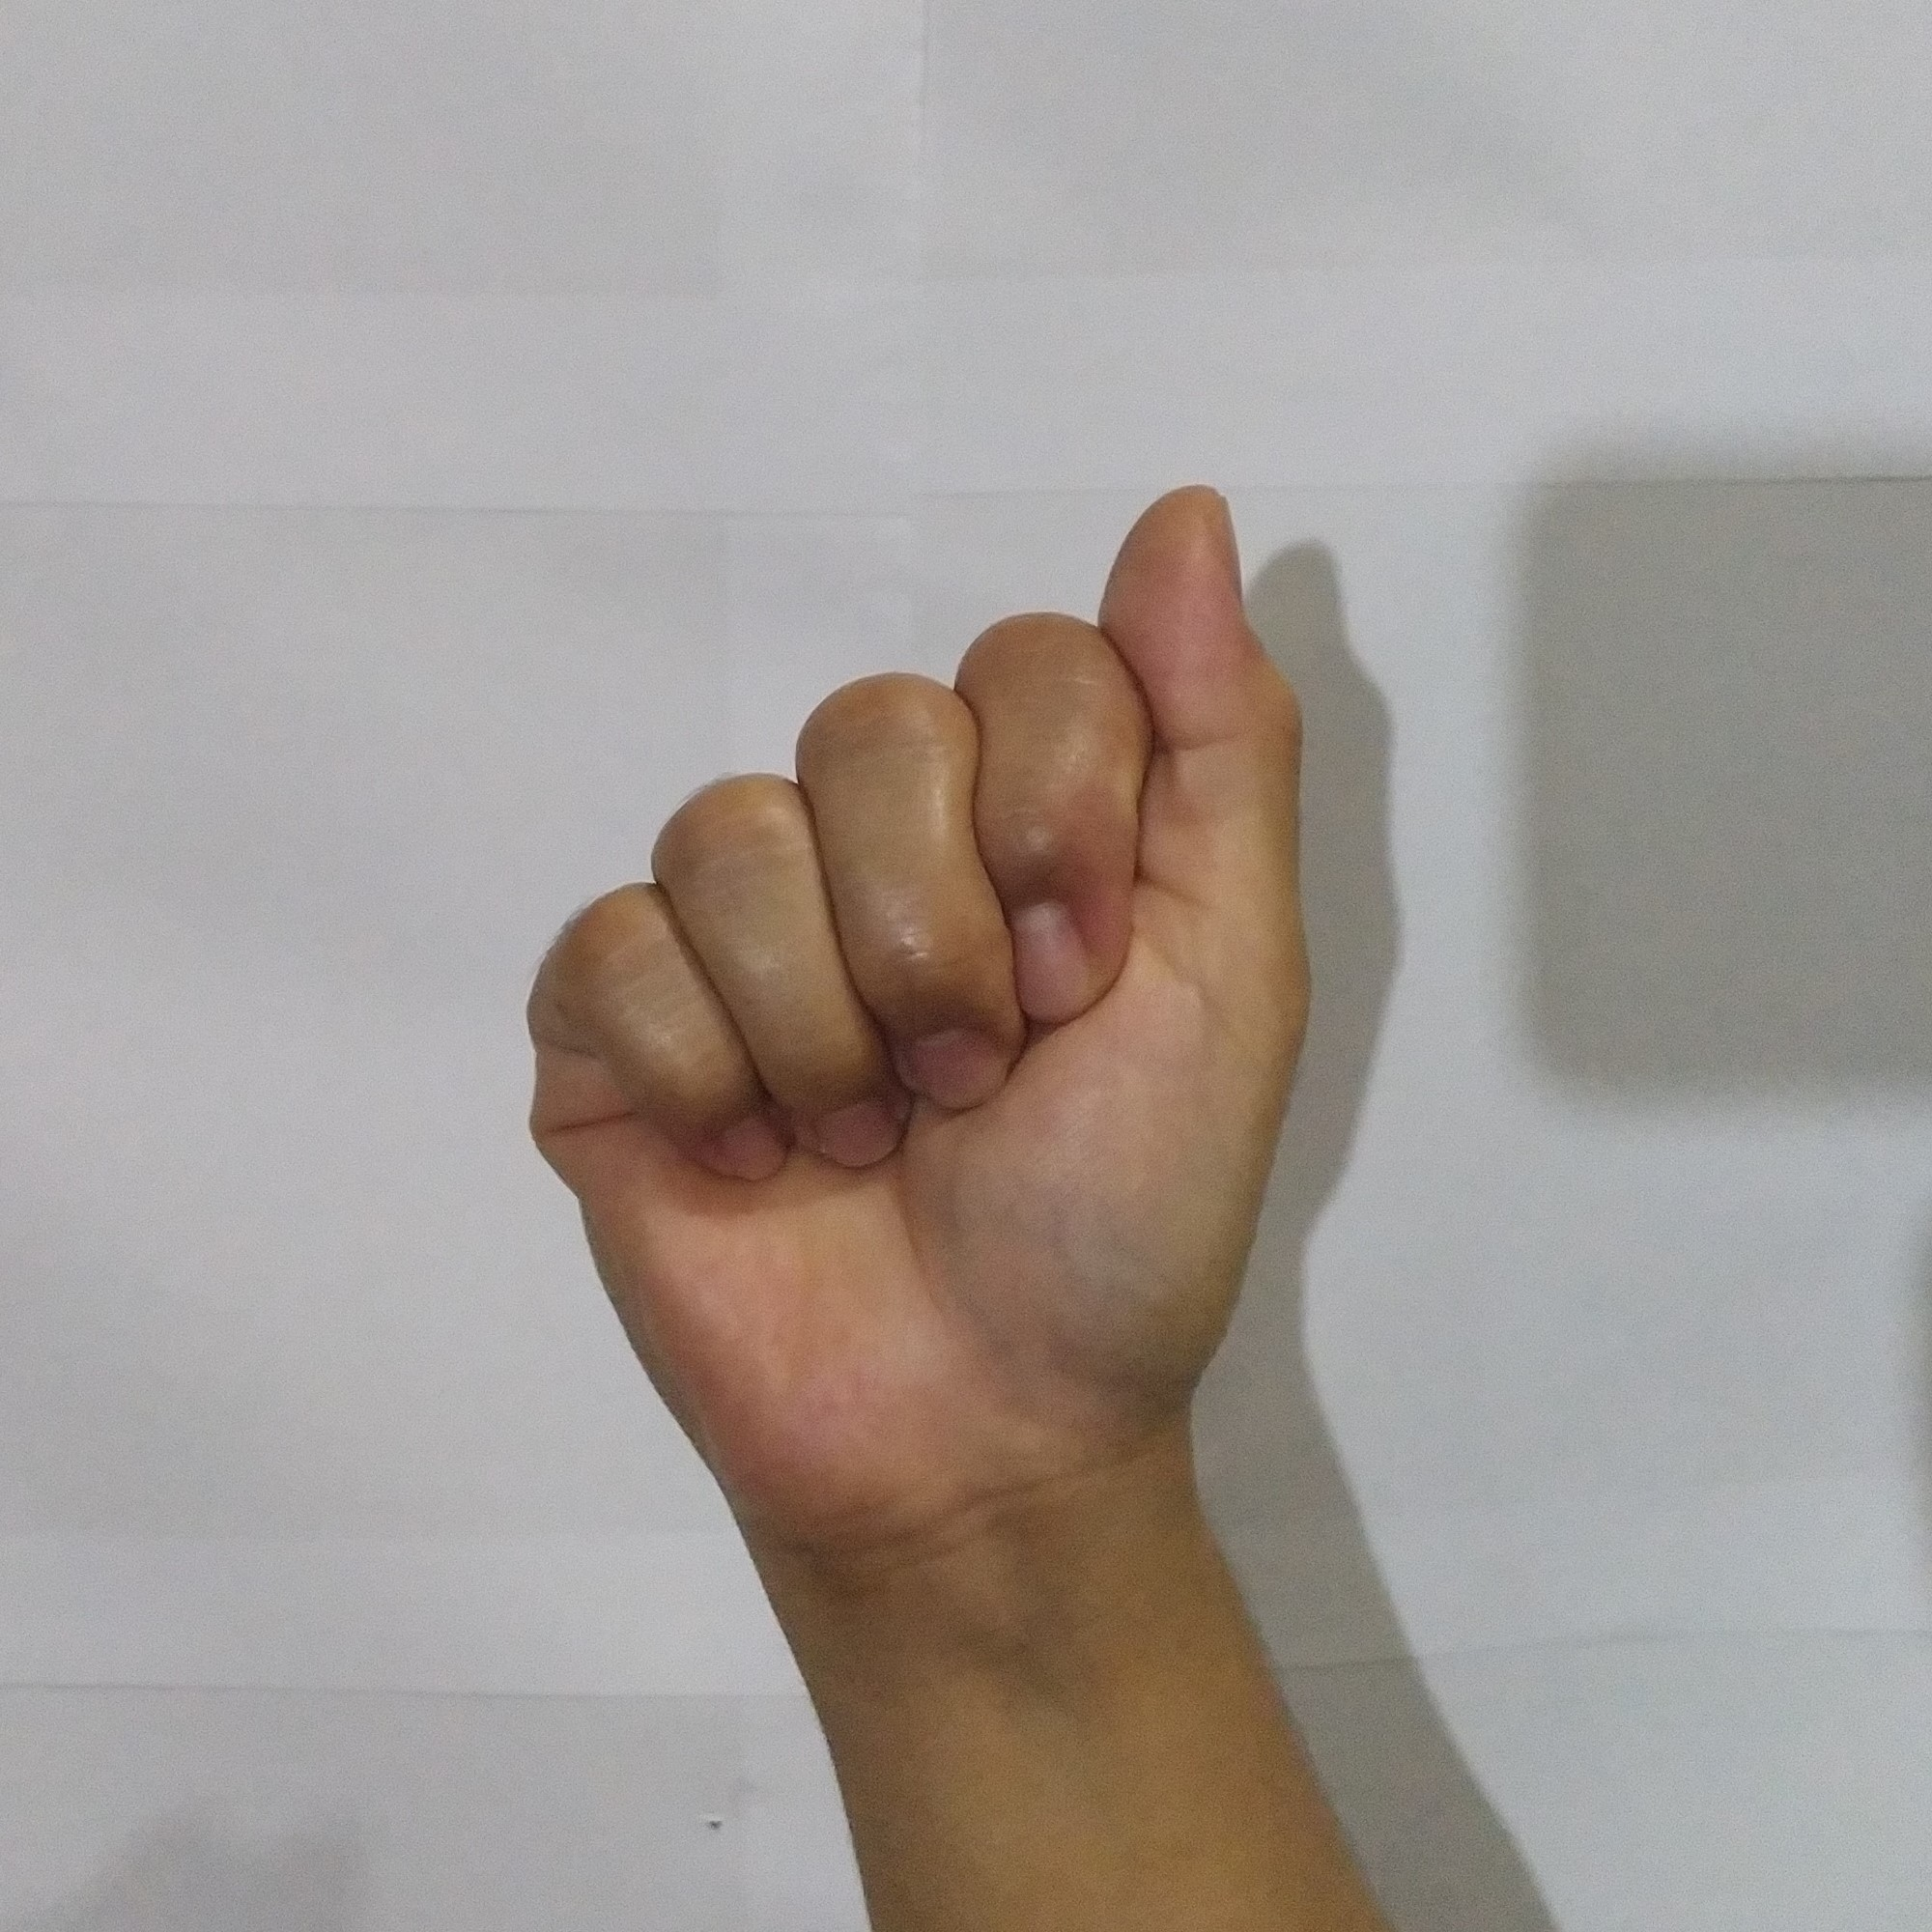A: (501, 467, 1338, 1536)
